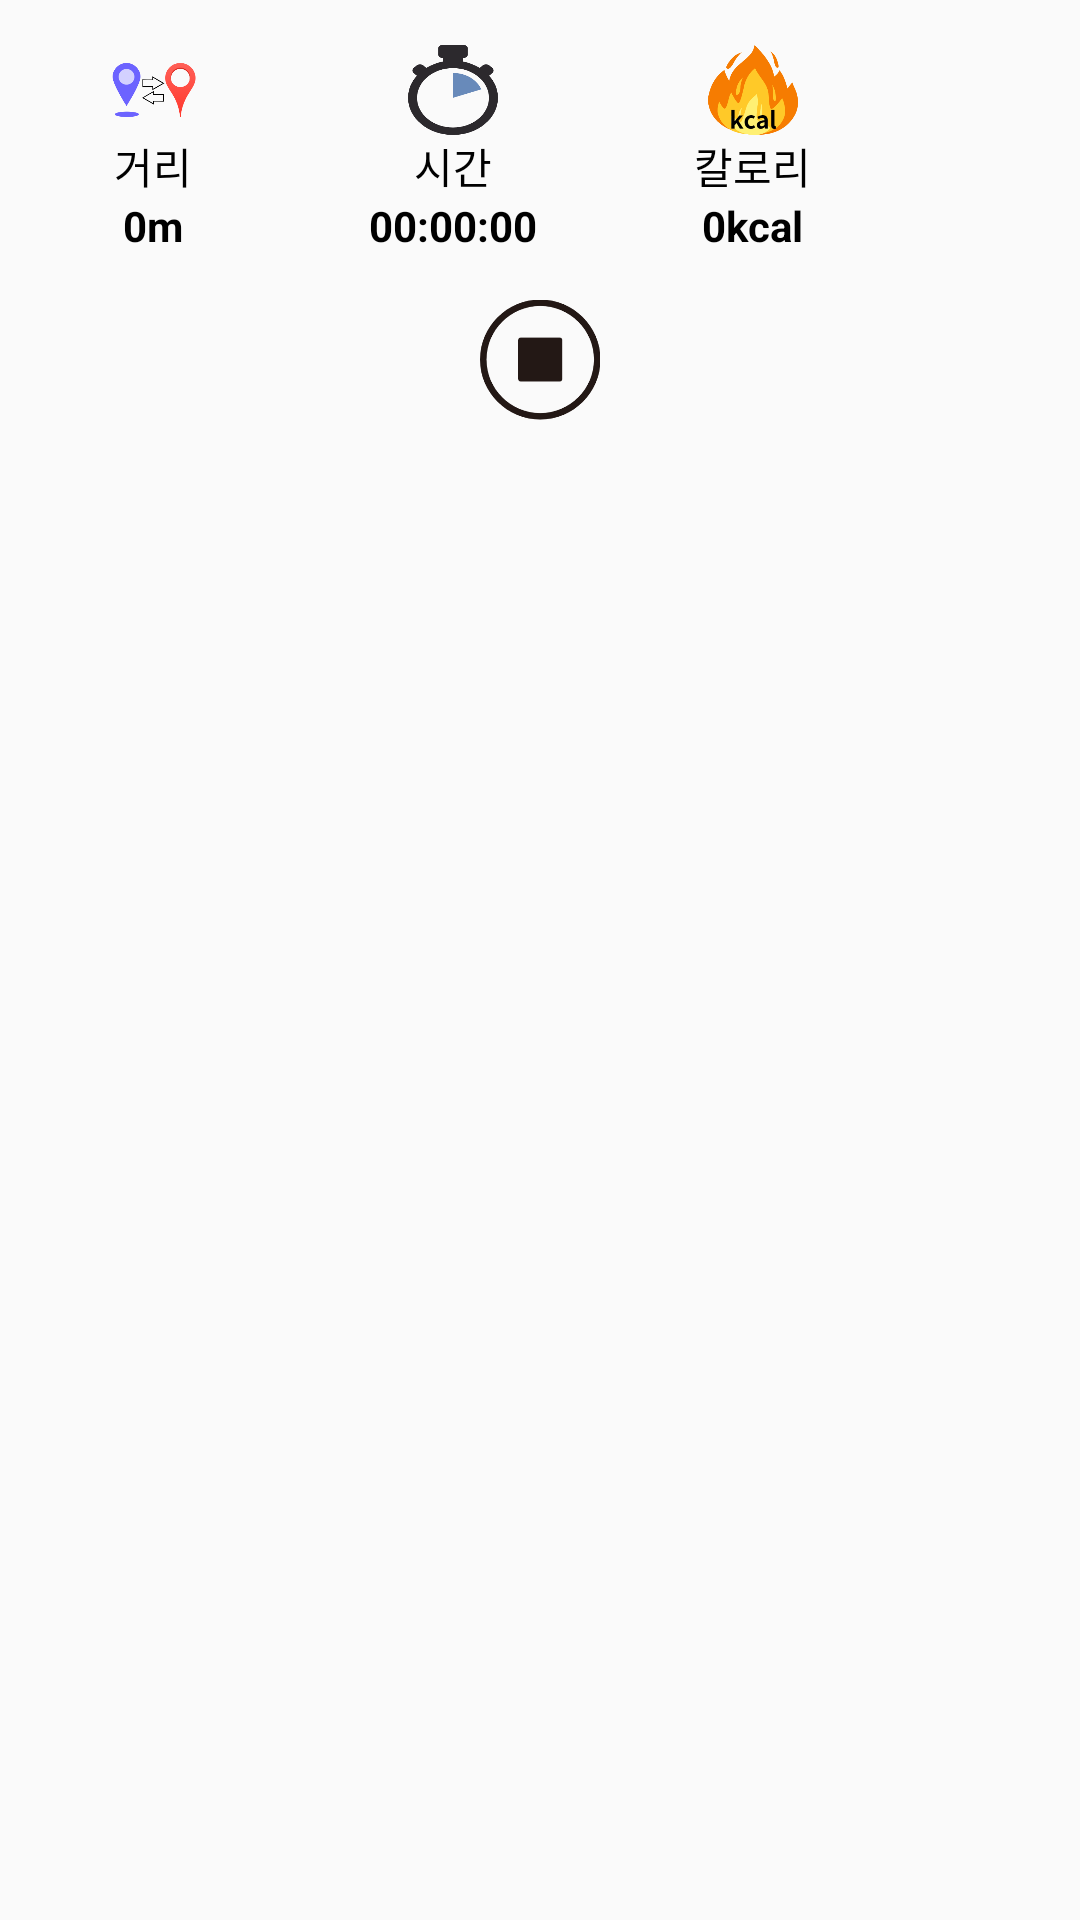

Point at icon controls on the screen. Image size 1080w x 1920h, points as (x,y).
stop: (540,360)
